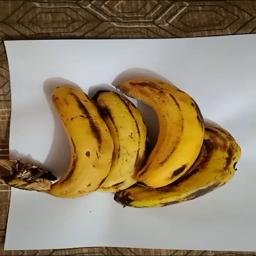Banana Semifresh: (23, 84, 113, 201), (114, 75, 207, 186), (87, 83, 148, 193)
